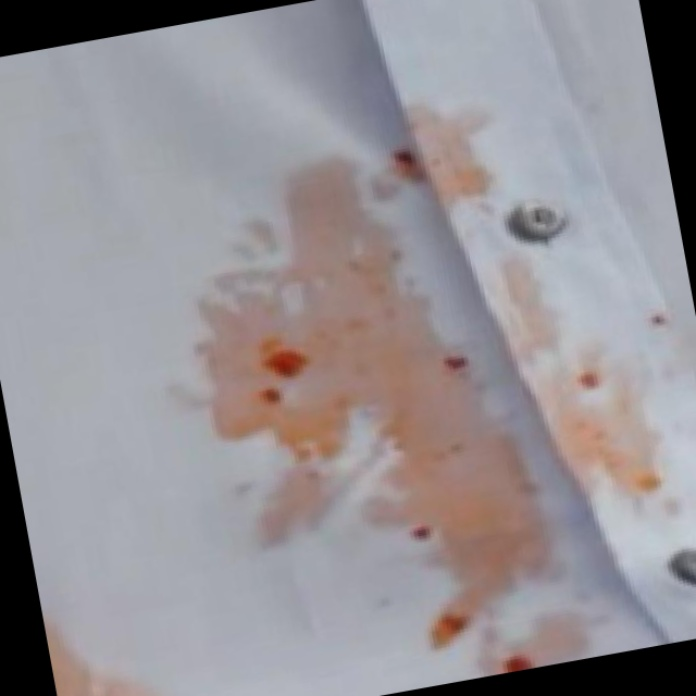kimchi: (118, 64, 696, 696), (45, 598, 182, 696), (234, 324, 334, 447), (358, 114, 470, 208), (414, 326, 499, 409), (391, 503, 478, 576), (565, 347, 623, 415), (483, 635, 561, 676), (621, 452, 675, 504), (430, 599, 477, 644), (644, 302, 687, 348)
